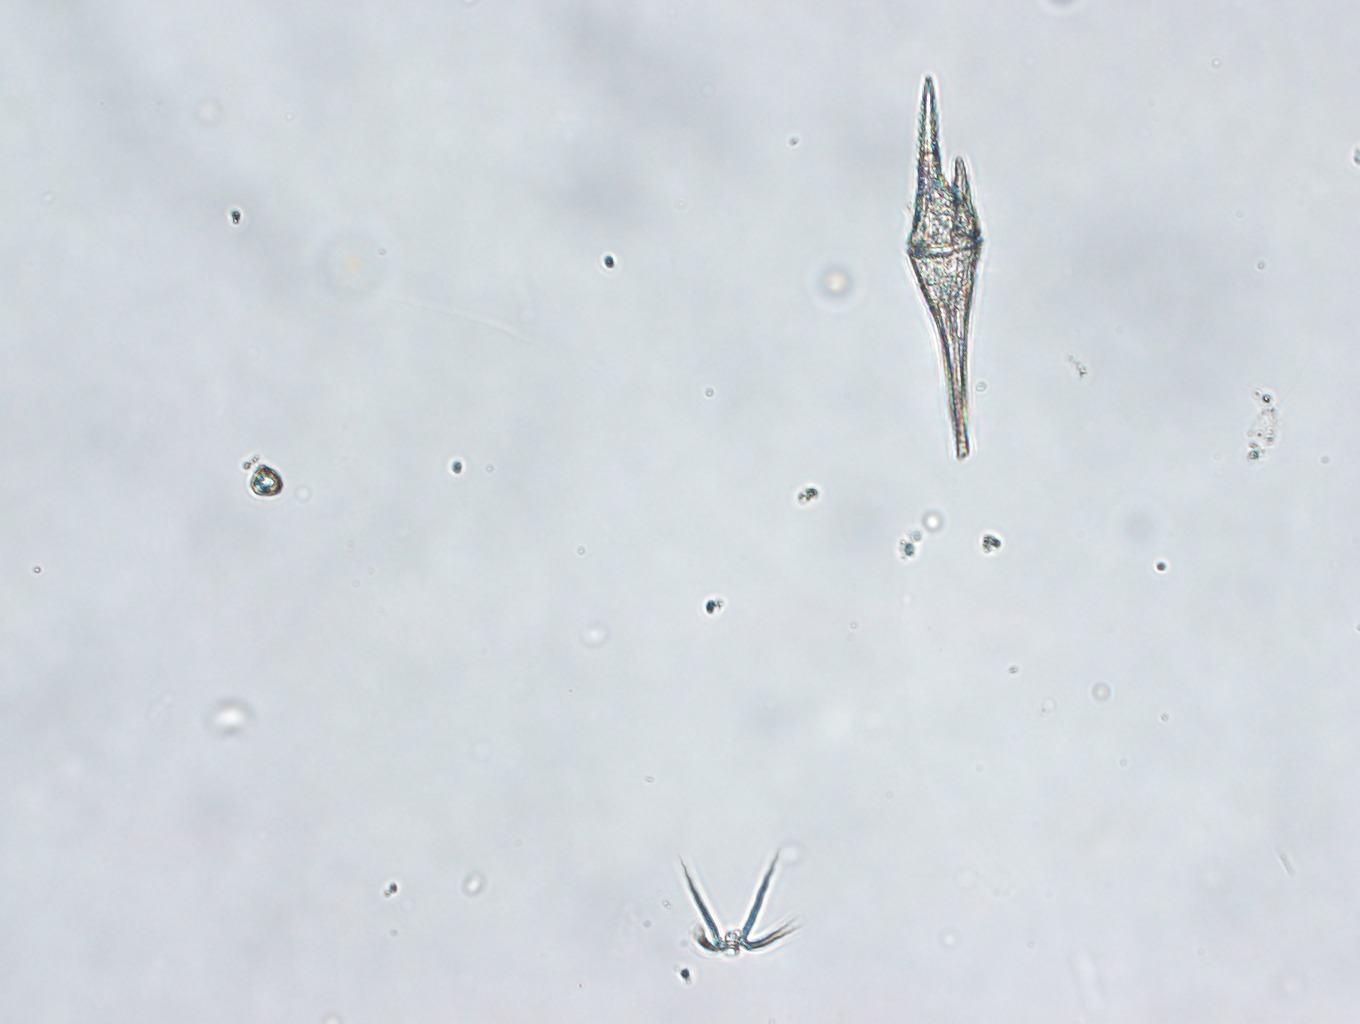ceratium furca: (905, 72, 987, 459)
chaetoceros: (678, 847, 802, 956)
